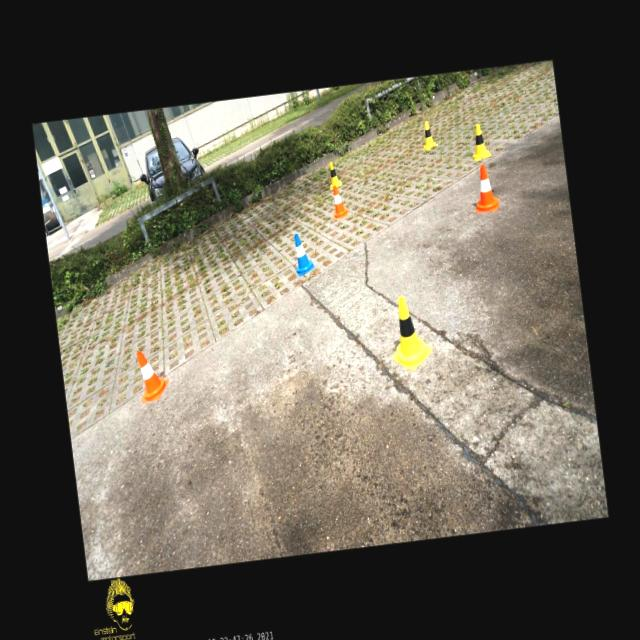blue_cone: (292, 232, 316, 276)
orange_cone: (136, 348, 170, 402), (470, 164, 499, 212), (330, 184, 348, 218)
yellow_cone: (385, 294, 433, 371), (468, 123, 491, 159), (420, 120, 436, 148), (328, 160, 341, 187)
